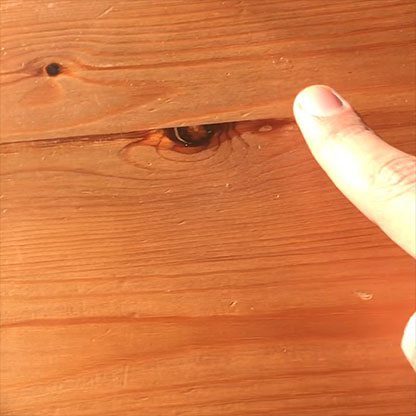fingertip: (284, 74, 361, 136)
